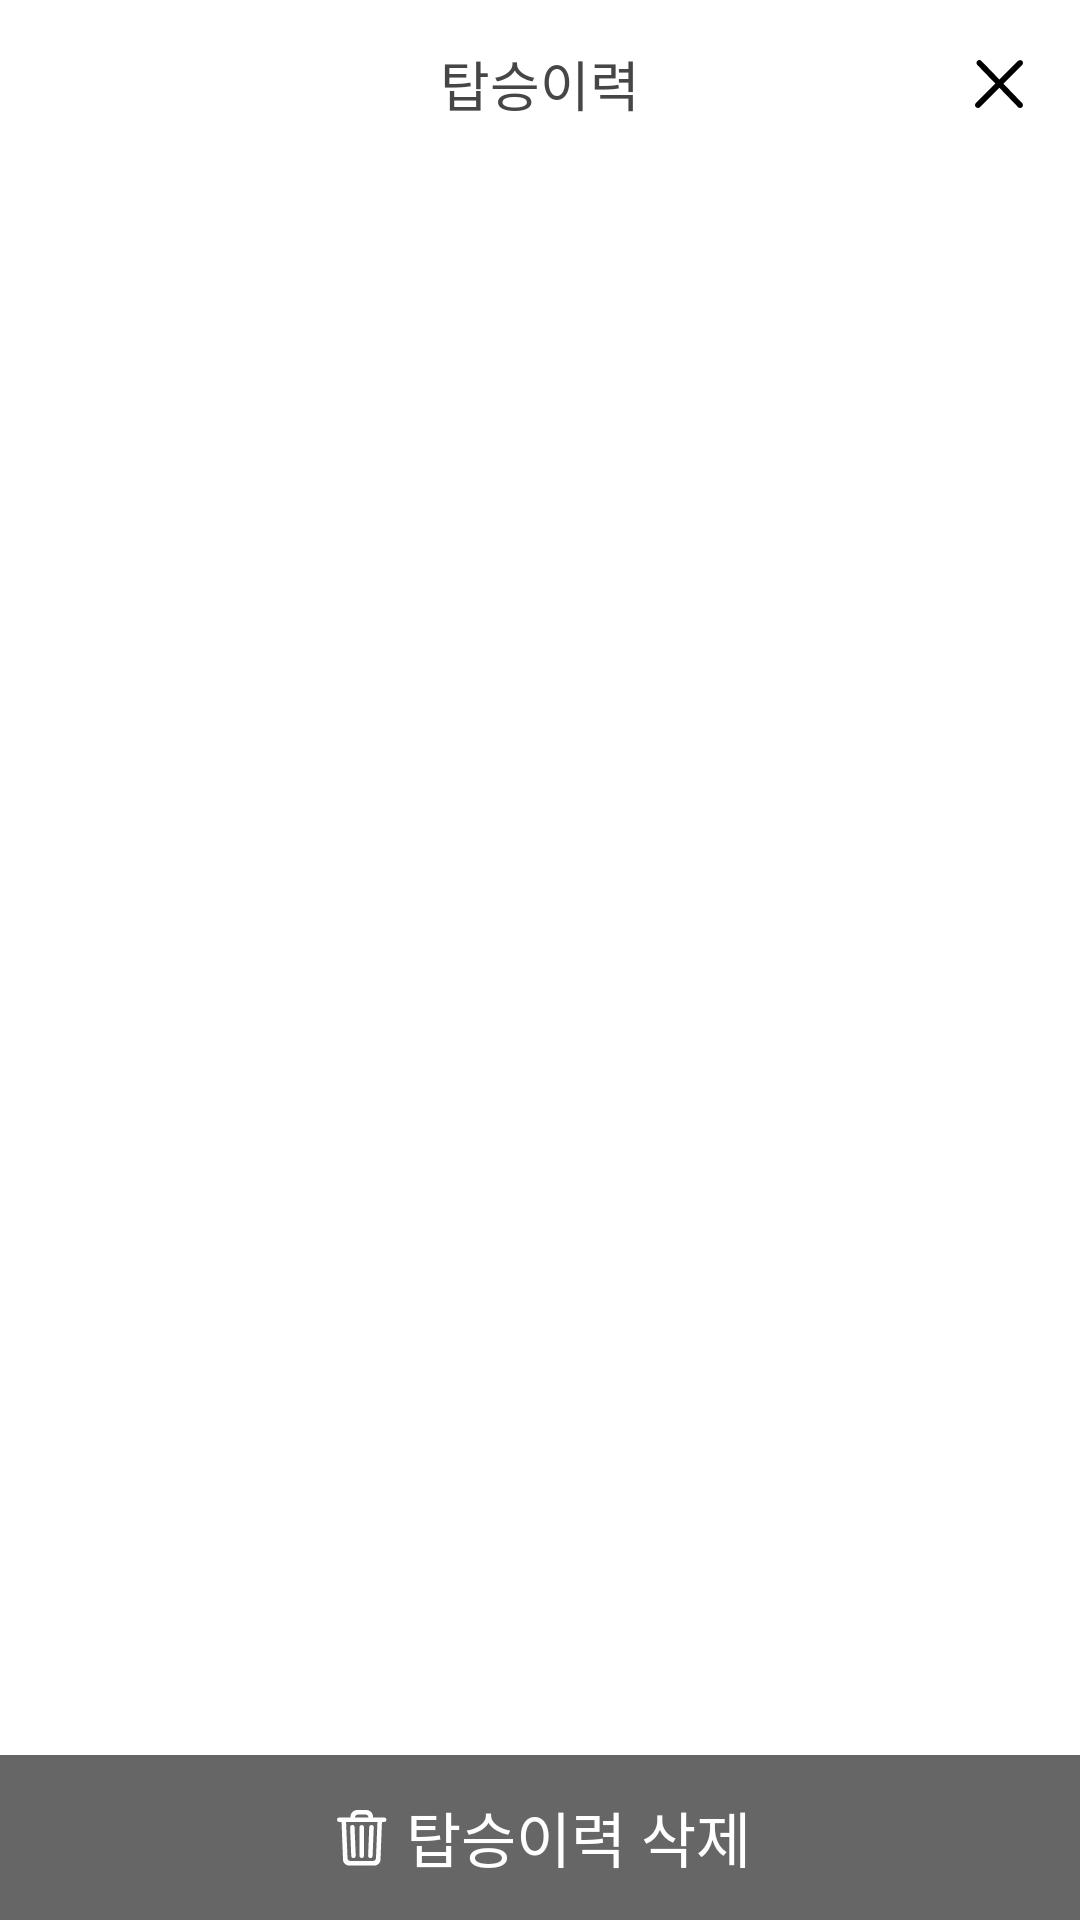

Where icons sit on this 1080px x 1920px app screen, as bbox(x1, y1, x2, y2):
trash: bbox(337, 1810, 387, 1866)
